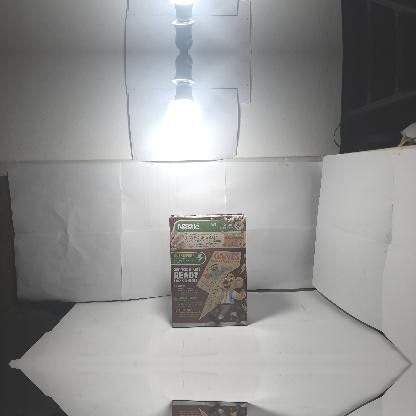Koko-Krunch: (169, 212, 247, 328)
